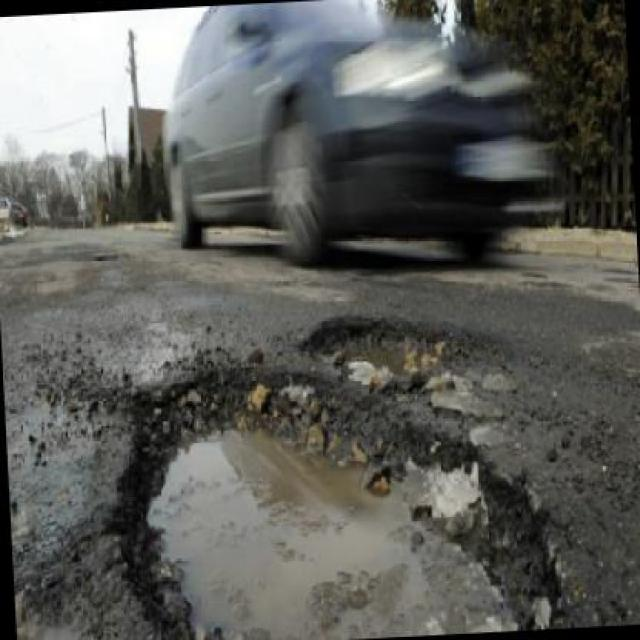pothole1: (98, 336, 574, 638), (296, 302, 510, 400)
